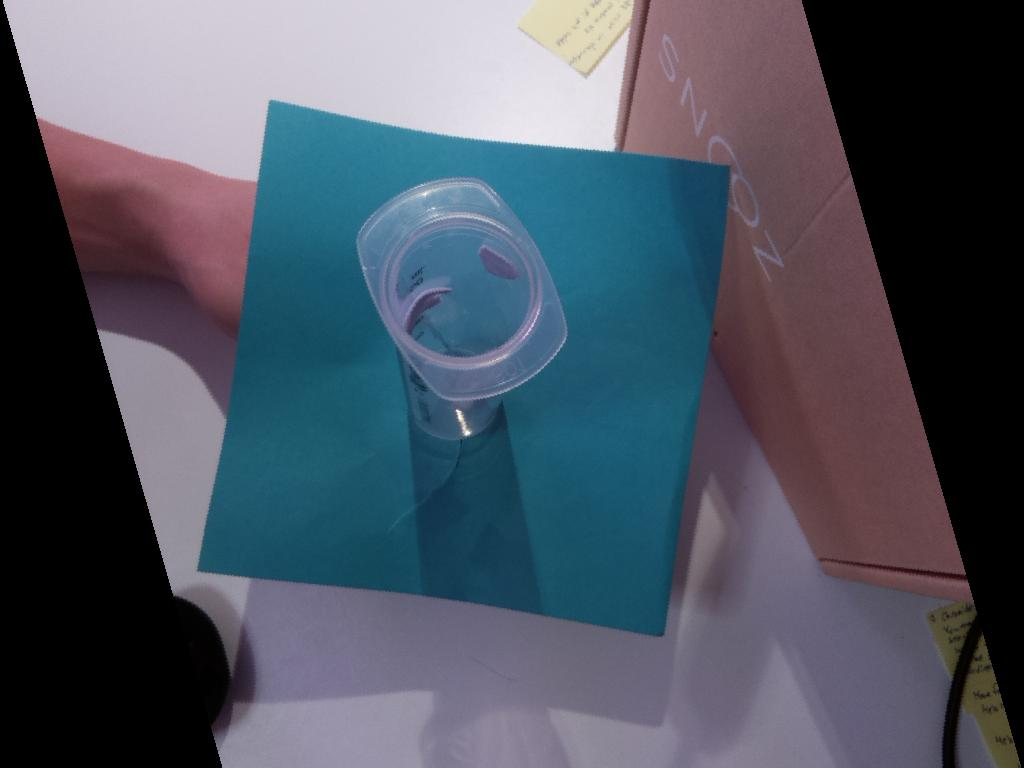dirty: (355, 175, 568, 404)
